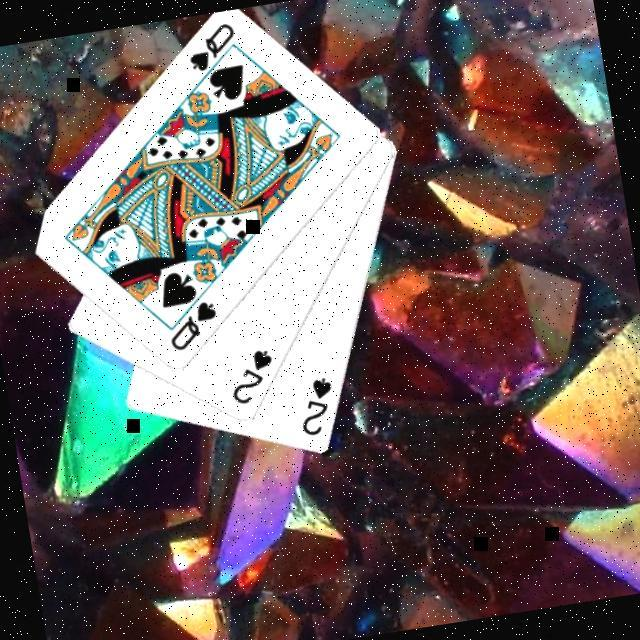2S: (226, 347, 284, 412), (294, 374, 345, 442)
QS: (164, 298, 227, 358), (183, 21, 245, 79)
